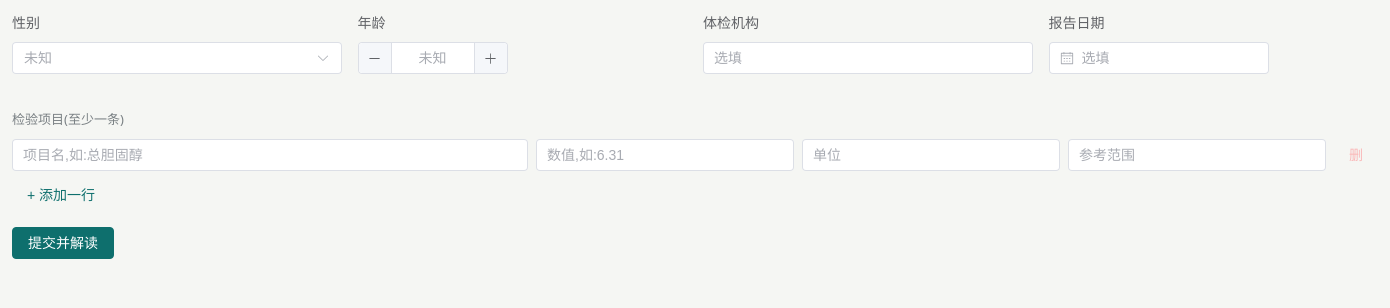
Test: ManualEntryForm › 空提交显示校验提示且不请求
Click the submit button.
click(63, 243)  # box [12, 227, 114, 259]
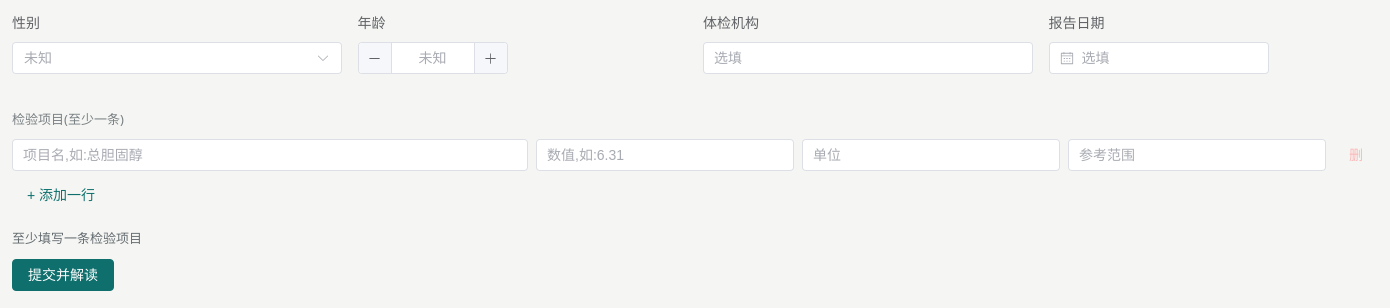
expect the text "至少填写一条检验项目" is shown: met, box [12, 229, 142, 247]
